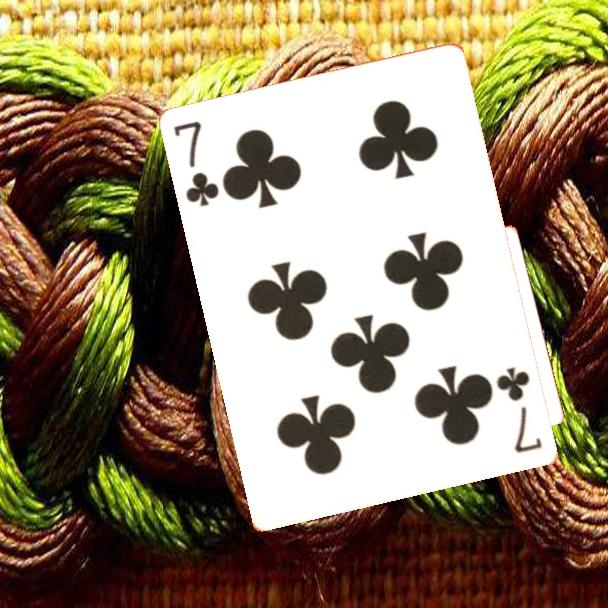c07: (493, 363, 546, 456), (171, 118, 223, 210)
